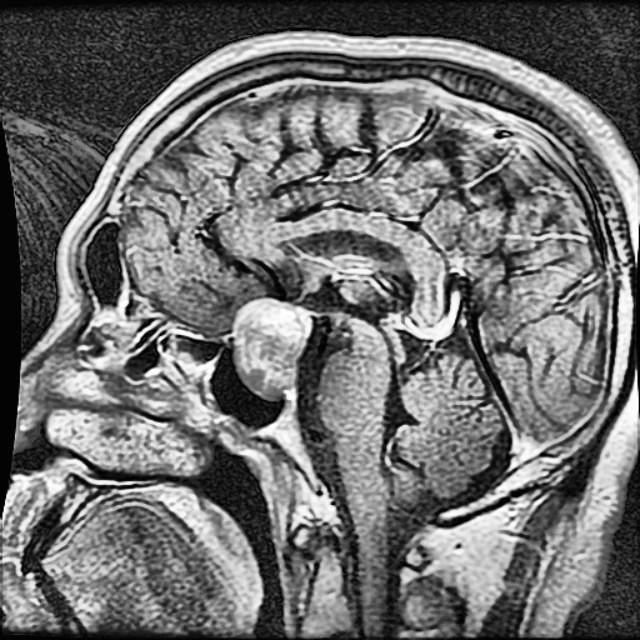Pituitary: (232, 298, 305, 397)
